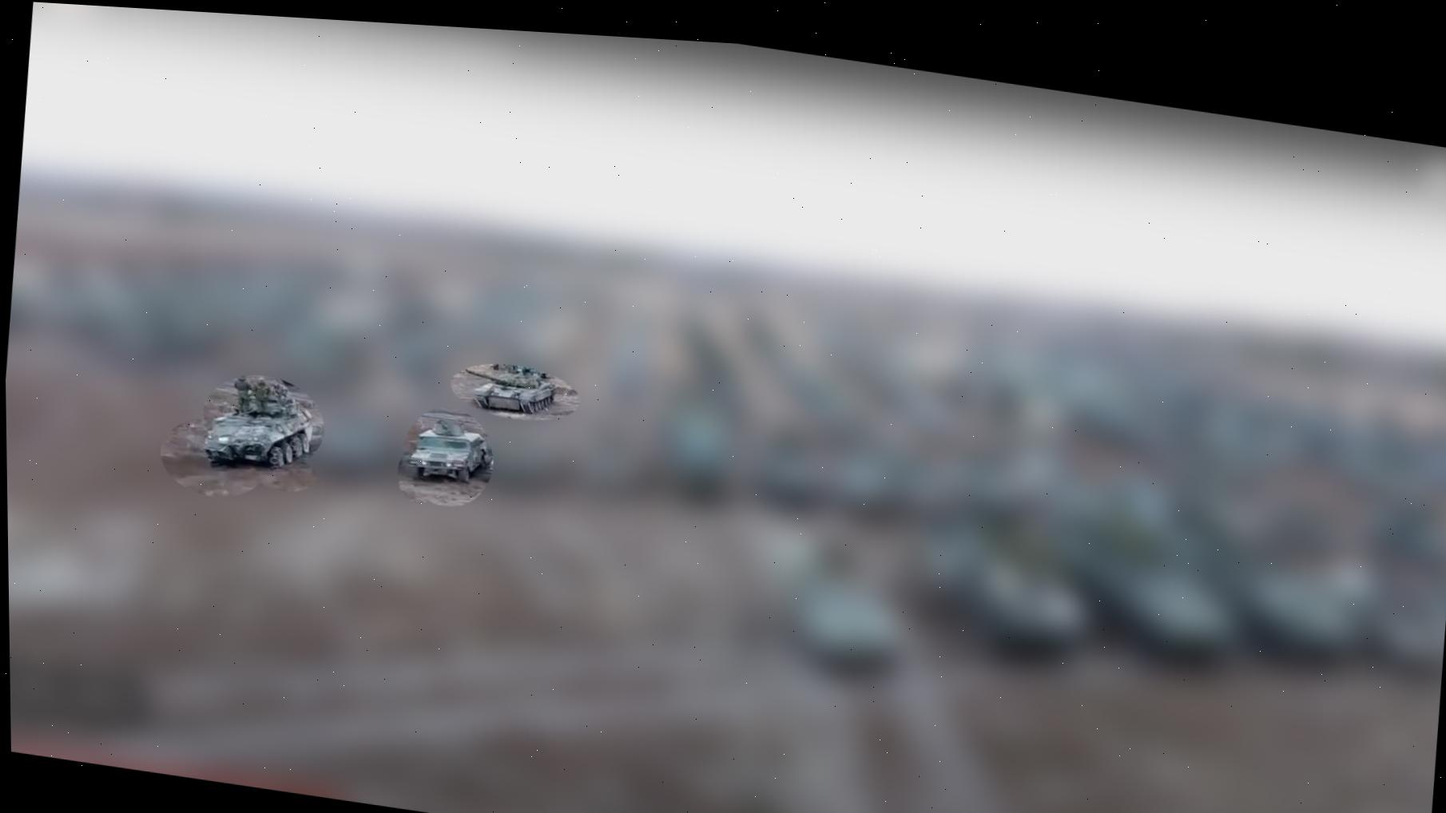armored_car: (195, 384, 318, 479), (400, 418, 496, 491)
tank: (455, 357, 562, 422)
